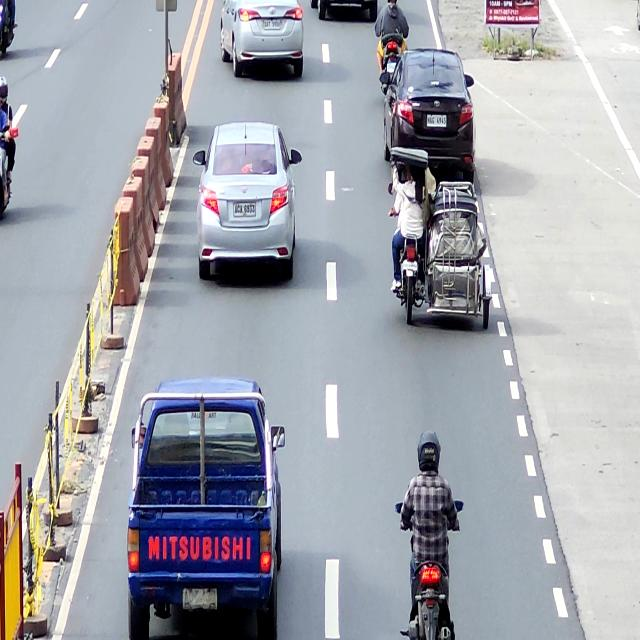Car: (127, 377, 285, 639), (192, 120, 302, 281), (381, 47, 476, 182), (220, 0, 304, 78)
License-Plate: (180, 582, 220, 612), (232, 201, 257, 218), (426, 113, 448, 129), (263, 17, 282, 32), (402, 257, 418, 272), (385, 62, 398, 74)
Motorcycle: (395, 499, 462, 639), (380, 17, 408, 87), (0, 125, 18, 219)
Tricycle: (389, 141, 493, 331)
